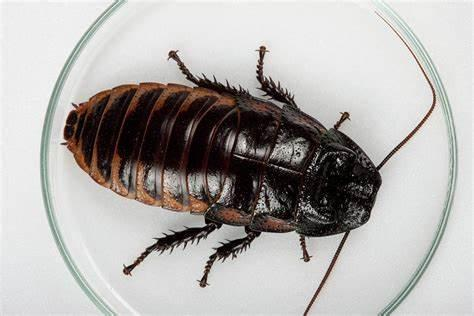cockroach: (65, 54, 383, 266)
